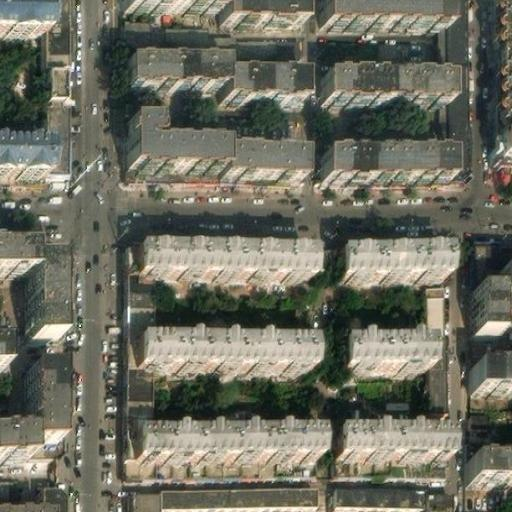building: (126, 112, 300, 176), (124, 53, 302, 99), (126, 241, 154, 472), (445, 0, 479, 174), (139, 237, 314, 270), (0, 360, 60, 454), (135, 426, 321, 456), (140, 330, 316, 360), (131, 486, 317, 512), (47, 0, 73, 166), (487, 7, 512, 165), (329, 144, 457, 174), (326, 67, 454, 97), (125, 0, 298, 21), (337, 425, 453, 453), (427, 283, 449, 425), (337, 255, 446, 283), (337, 486, 453, 512), (341, 333, 430, 366), (468, 284, 511, 334), (469, 244, 512, 288), (0, 131, 49, 166), (470, 363, 512, 389), (467, 455, 512, 479), (42, 481, 69, 512), (30, 436, 60, 454), (0, 331, 12, 365)
